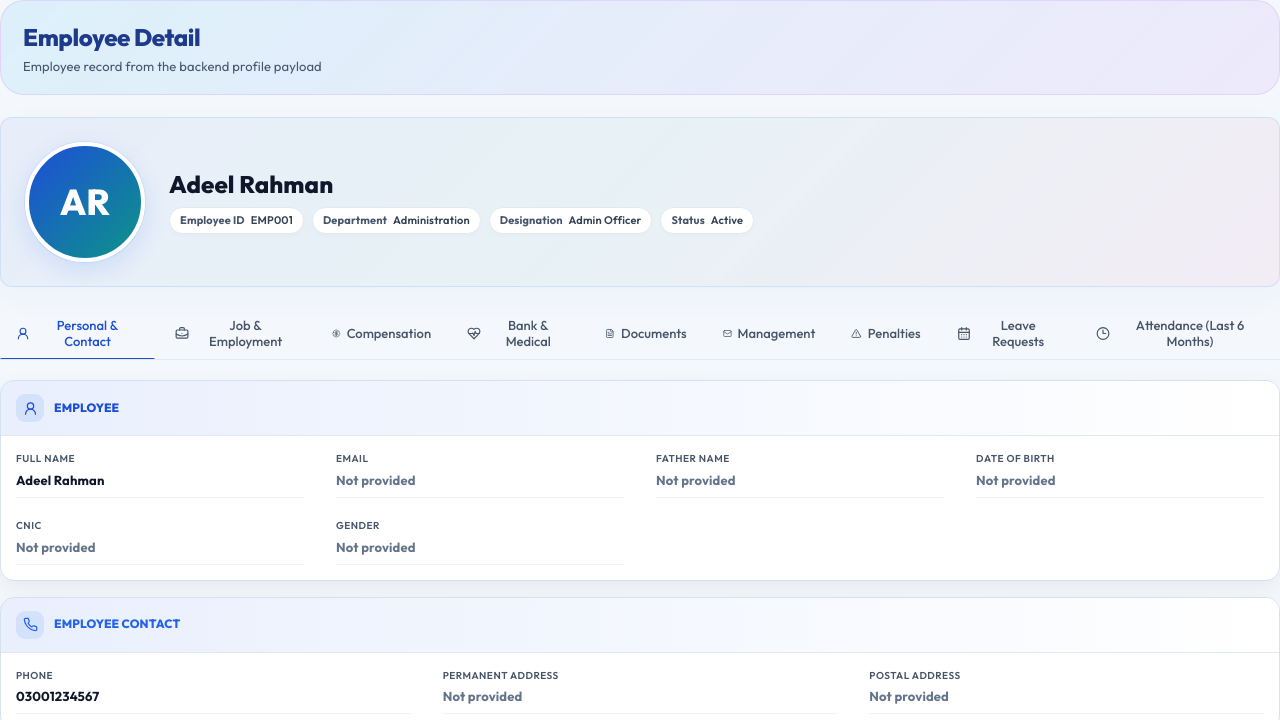
Test: EmployeeDetail › shows salary history in the compensation section
Click the button "Compensation" at (382, 333), box top-left (316, 307), bottom-right (447, 359)
(page scrolled)
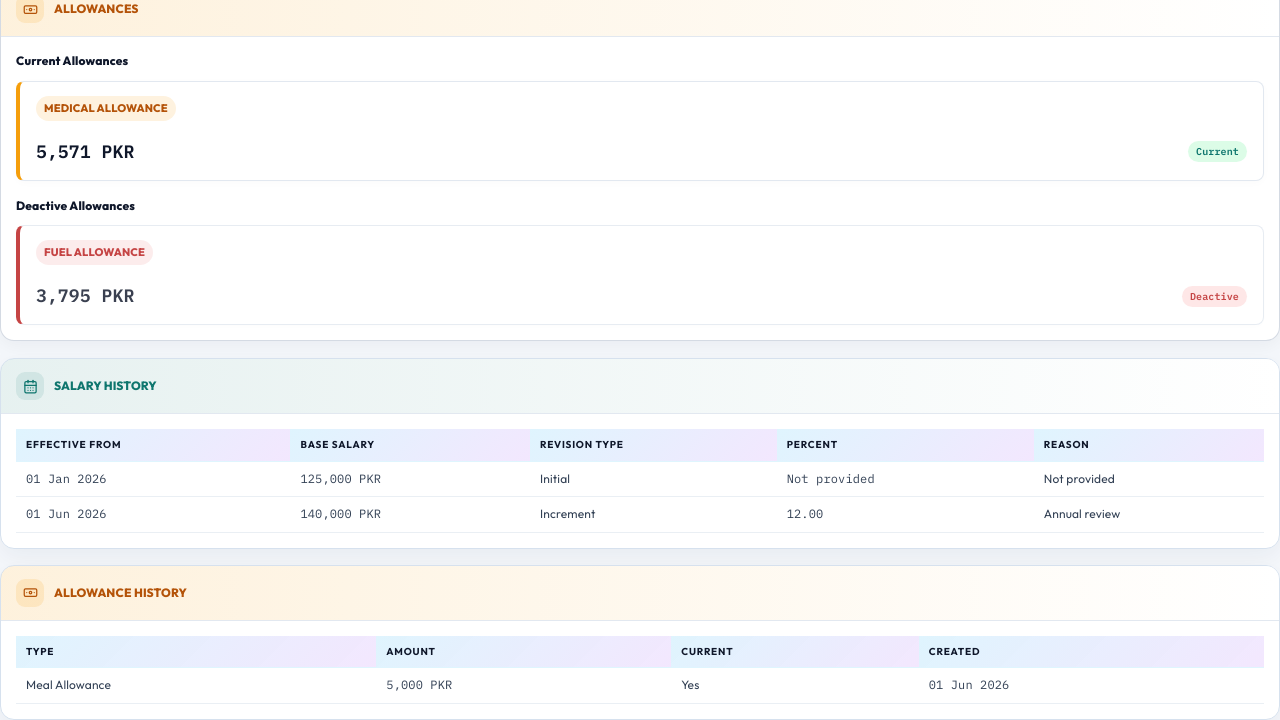
Check: the text "Current Allowances" is shown, box top-left (16, 53), bottom-right (128, 68)
Check: the text "Deactive Allowances" is shown, box top-left (16, 198), bottom-right (135, 213)
Check: the text "Medical Allowance" is shown, box top-left (36, 96), bottom-right (176, 121)
